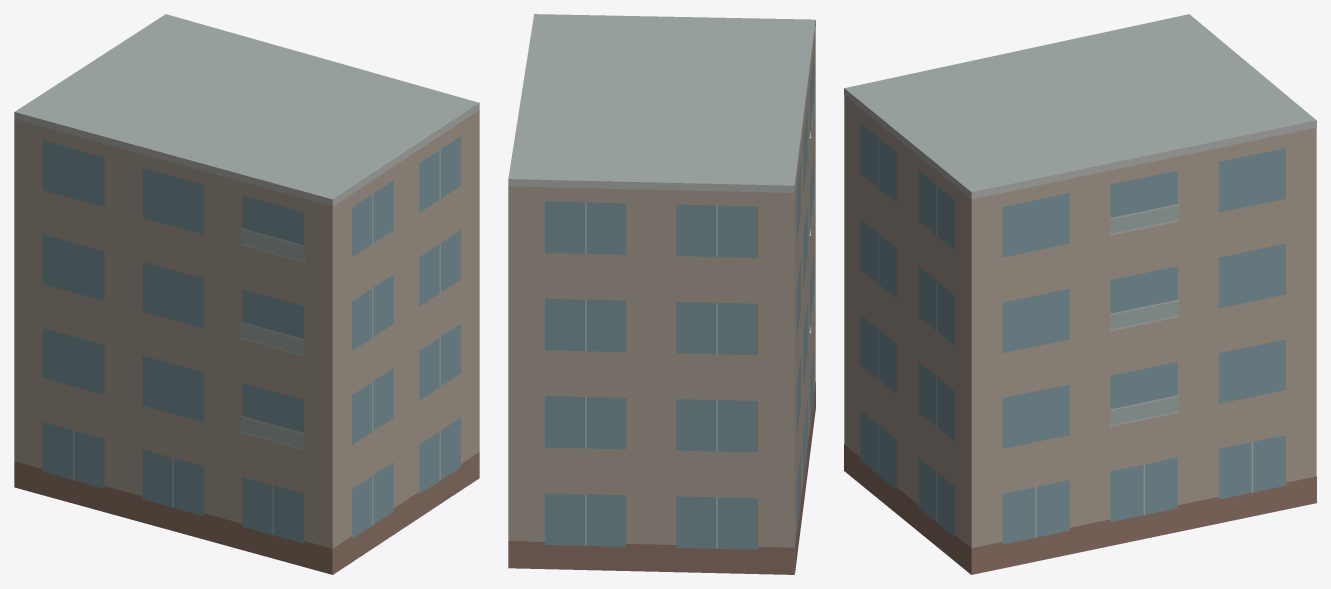
The model's file is survey-upis-33008124.glb.
3 renders of one model, left to right at view 1: azimuth 30°, elevation 25°; view 2: azimuth 150°, elevation 25°; view 3: azimuth 270°, elevation 25°, orthographic. The views are drawn at different scales.
Visible parts, largest first — view 1: survey-upis-33008124.tmp; view 2: survey-upis-33008124.tmp; view 3: survey-upis-33008124.tmp.
Boxes of the visible parts, <box> form: survey-upis-33008124.tmp: <box>14,14,479,574</box>; survey-upis-33008124.tmp: <box>508,14,815,574</box>; survey-upis-33008124.tmp: <box>844,14,1316,574</box>.
Bounding box in the file's own units: 12.89 × 12.9 × 14.45.
